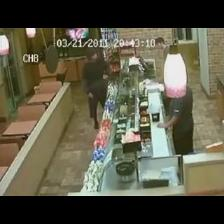person: (158, 87, 193, 154), (83, 49, 107, 129), (155, 38, 170, 62), (155, 38, 170, 60)
